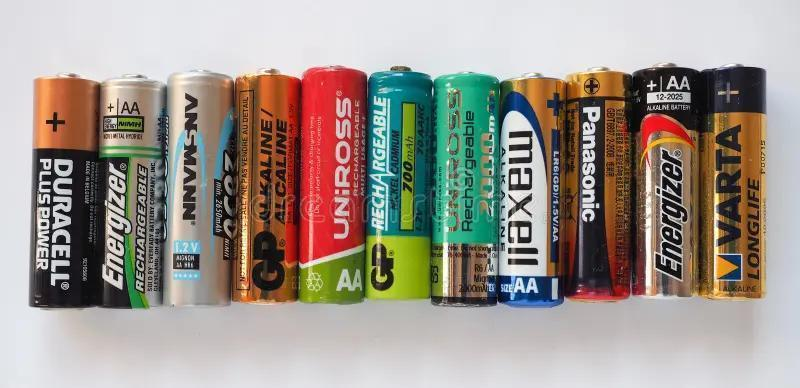AA: (27, 69, 101, 310), (163, 66, 235, 309), (96, 71, 166, 310), (631, 60, 701, 299), (701, 60, 770, 300), (299, 62, 367, 305), (564, 63, 633, 302), (233, 66, 302, 304), (365, 62, 434, 300), (432, 68, 500, 306), (499, 70, 566, 308)
